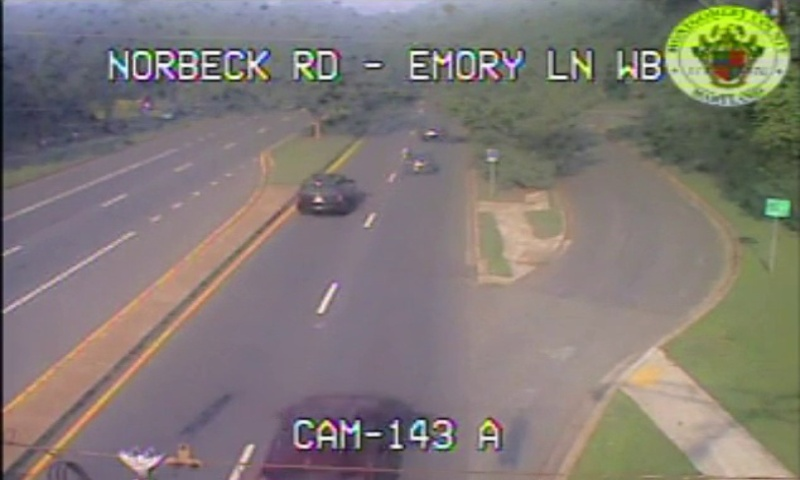car: (297, 174, 354, 212)
